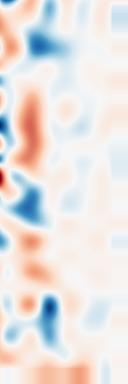filament: (13, 82, 55, 185)
